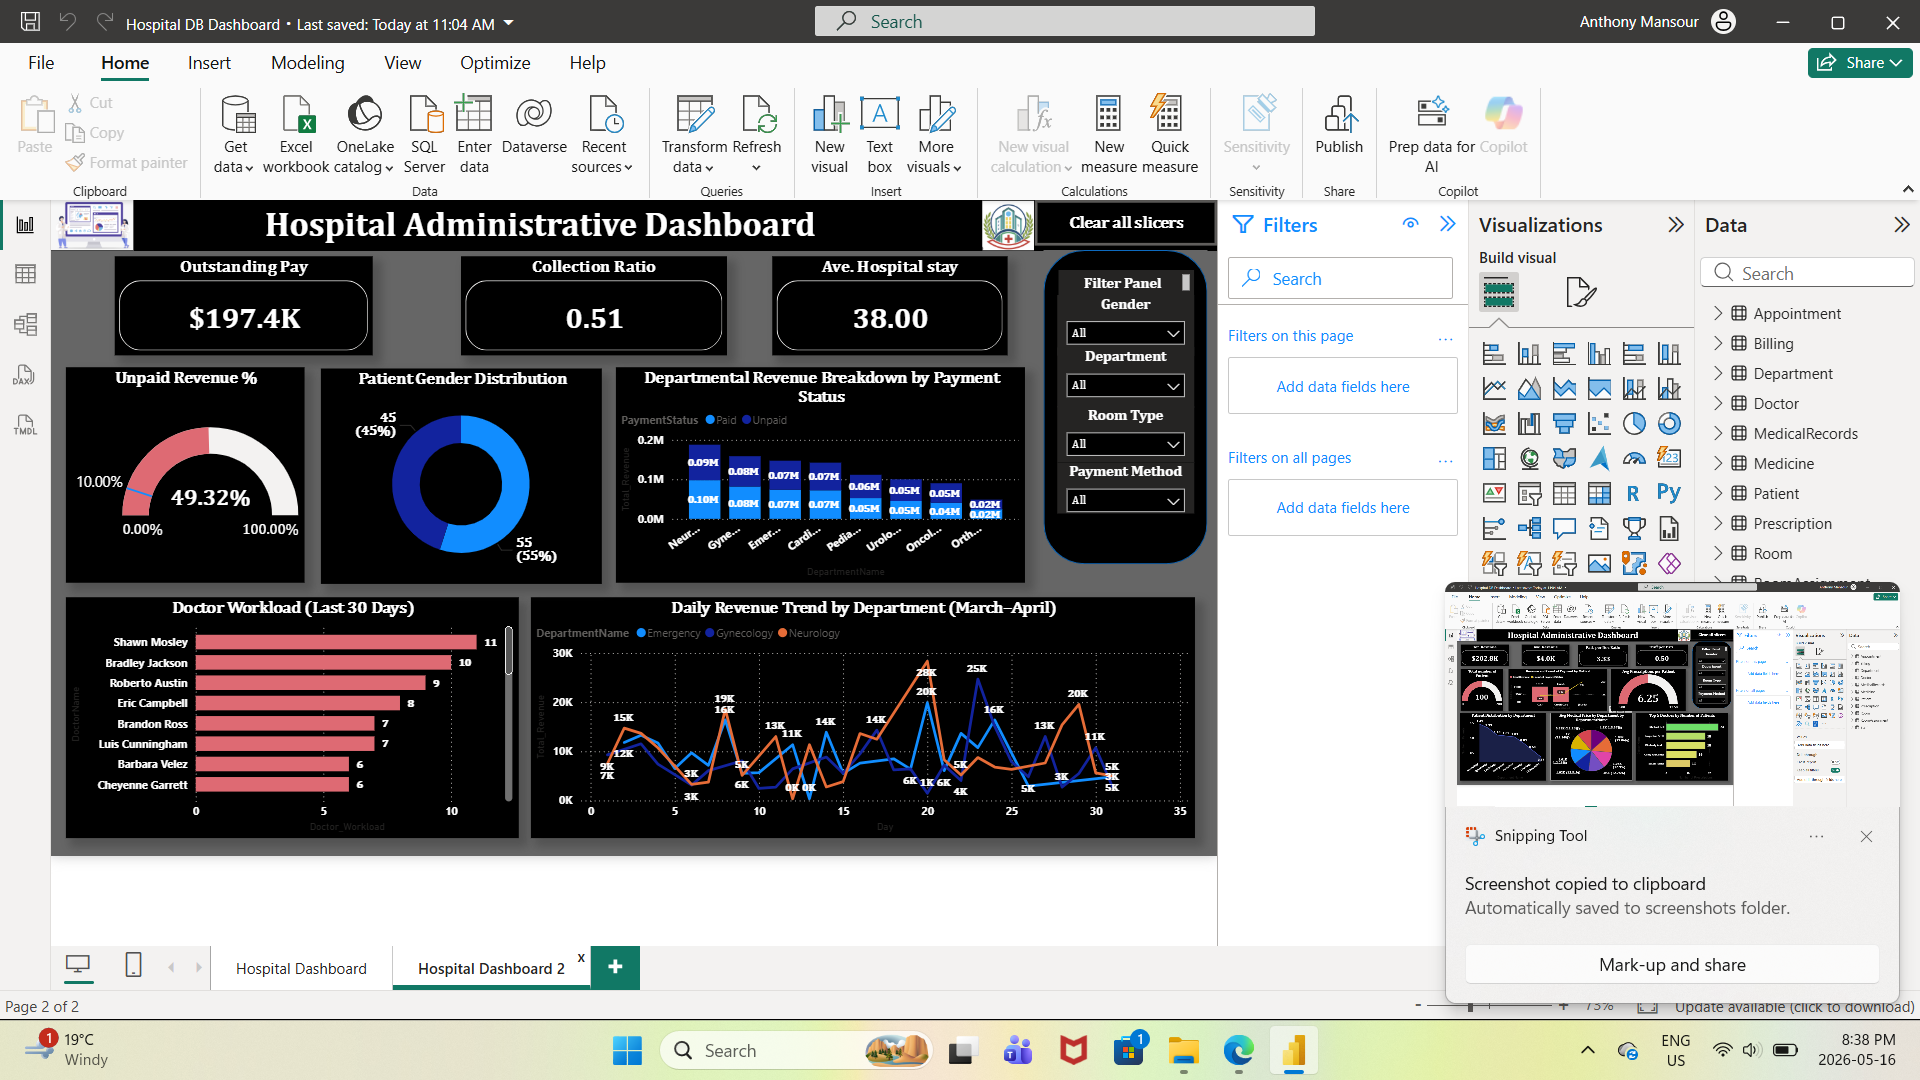

The page's visual inventory and layout, read from the dashboard file:
{"tool":"powerbi","page":{"name":"Hospital Dashboard 2","canvas":[1280,720],"ordinal":1},"visuals":[{"type":"cardVisual","title":"Outstanding Pay","fields":{"Data":["Billing.Outstanding Amount"]},"box":[70.4,61.6,283.4,109.1],"z":0},{"type":"cardVisual","title":"Collection Ratio","fields":{"Data":["Billing.Collection Ratio"]},"box":[450.6,61.6,292.2,109.1],"z":1000},{"type":"cardVisual","title":"Ave. Hospital stay","fields":{"Data":["RoomAssignment.Avg Stay Duration"]},"box":[792.1,61.6,258.8,109.1],"z":3000},{"type":"textbox","box":[0,0,1279.8,55.6],"z":6000},{"type":"shape","box":[1089.5,55,179.9,344.8],"z":7000},{"type":"textbox","box":[1105.9,76.5,148.8,27.8],"z":8000},{"type":"slicer","title":"Gender","fields":{"Values":["Patient.Gender"]},"box":[1104.5,104.3,150.2,66.8],"z":9000},{"type":"slicer","title":"Department","fields":{"Values":["Department.DepartmentName"]},"box":[1104.5,161.4,150.2,65.4],"z":10000},{"type":"slicer","title":"Room Type","fields":{"Values":["Room.RoomType"]},"box":[1104.5,226.7,150.2,61.2],"z":11000},{"type":"slicer","title":"Payment Method","fields":{"Values":["Billing.PaymentMethod"]},"box":[1104.5,288,150.2,55.6],"z":12000},{"type":"actionButton","box":[1079.5,0,200.3,50.1],"z":13000},{"type":"image","box":[0,0,90.1,55.6],"z":14000},{"type":"image","box":[1022.5,0,57,55.6],"z":15000},{"type":"gauge","title":"Unpaid Revenue %","fields":{"Y":["Billing.Unpaid_Revenue_Percentage"],"TargetValue":["Billing.Unpaid_Target"]},"box":[16.4,184.3,261.6,236.3],"z":16000},{"type":"columnChart","title":"Departmental Revenue Breakdown by Payment Status","fields":{"Category":["Department.DepartmentName"],"Y":["Appointment.Total_Revenue"],"Series":["Billing.PaymentStatus"]},"box":[619.8,184.3,448.9,236.3],"z":18000},{"type":"clusteredBarChart","title":"Doctor Workload (Last 30 Days)","fields":{"Y":["Appointment.Doctor_Workload"],"Category":["Doctor.DoctorName"]},"box":[15.8,436.6,496.4,264],"z":19000},{"type":"lineChart","title":"Daily Revenue Trend by Department (March–April)","fields":{"Y":["Appointment.Total_Revenue"],"Category":["Appointment.AppointmentDate.Variation.Date Hierarchy.Day"],"Series":["Department.DepartmentName"]},"box":[526.3,436.6,728.8,264],"z":20000},{"type":"donutChart","title":"Patient Gender Distribution","fields":{"Y":["CountNonNull(Patient.PatientID)"],"Category":["Patient.Gender"]},"box":[295.7,184.8,308.1,235.9],"z":20002}]}

Visuals, with their boxes on the page's 1280x720 design canvas (x1, y1, x2, y2). These are canvas units, not pixel positions in the 1920x1080 screenshot, which may show the page scaled, cropped or inside an application window:
"Outstanding Pay" cardVisual: locate(70, 62, 354, 171)
"Collection Ratio" cardVisual: locate(451, 62, 743, 171)
"Ave. Hospital stay" cardVisual: locate(792, 62, 1051, 171)
textbox: locate(0, 0, 1280, 56)
shape: locate(1090, 55, 1269, 400)
textbox: locate(1106, 76, 1255, 104)
"Gender" slicer: locate(1104, 104, 1255, 171)
"Department" slicer: locate(1104, 161, 1255, 227)
"Room Type" slicer: locate(1104, 227, 1255, 288)
"Payment Method" slicer: locate(1104, 288, 1255, 344)
actionButton: locate(1080, 0, 1280, 50)
image: locate(0, 0, 90, 56)
image: locate(1022, 0, 1080, 56)
"Unpaid Revenue %" gauge: locate(16, 184, 278, 421)
"Departmental Revenue Breakdown by Payment Status" columnChart: locate(620, 184, 1069, 421)
"Doctor Workload (Last 30 Days)" clusteredBarChart: locate(16, 437, 512, 701)
"Daily Revenue Trend by Department (March–April)" lineChart: locate(526, 437, 1255, 701)
"Patient Gender Distribution" donutChart: locate(296, 185, 604, 421)
